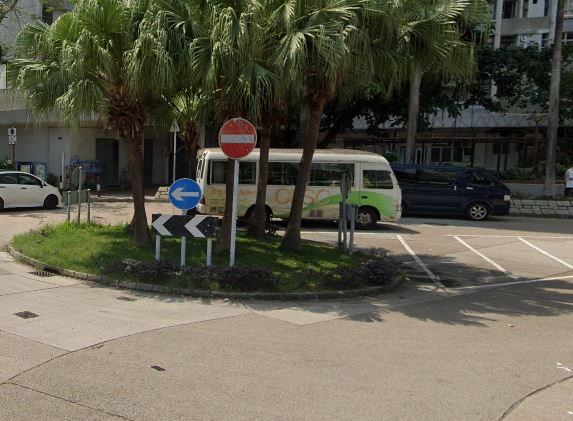No Enter: (218, 119, 258, 160)
Turn Left: (167, 178, 203, 208)
Turn Left(quick): (150, 212, 216, 237)
